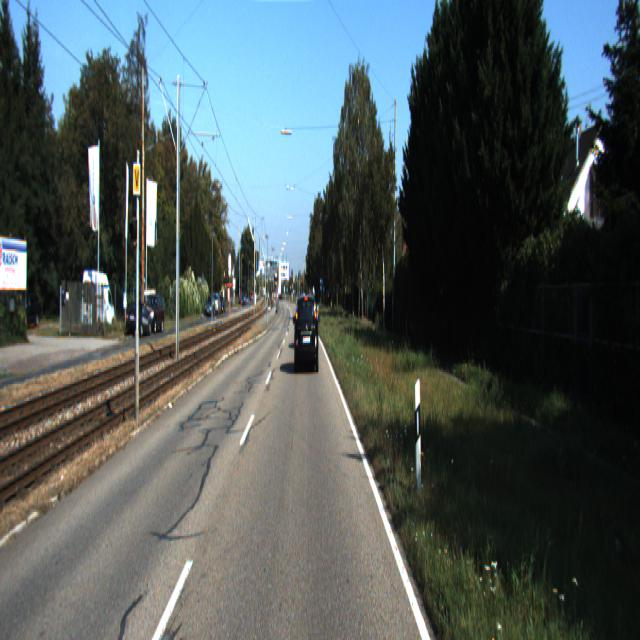Car: (81, 271, 116, 338), (295, 292, 320, 374), (125, 302, 154, 341), (142, 292, 167, 334)
